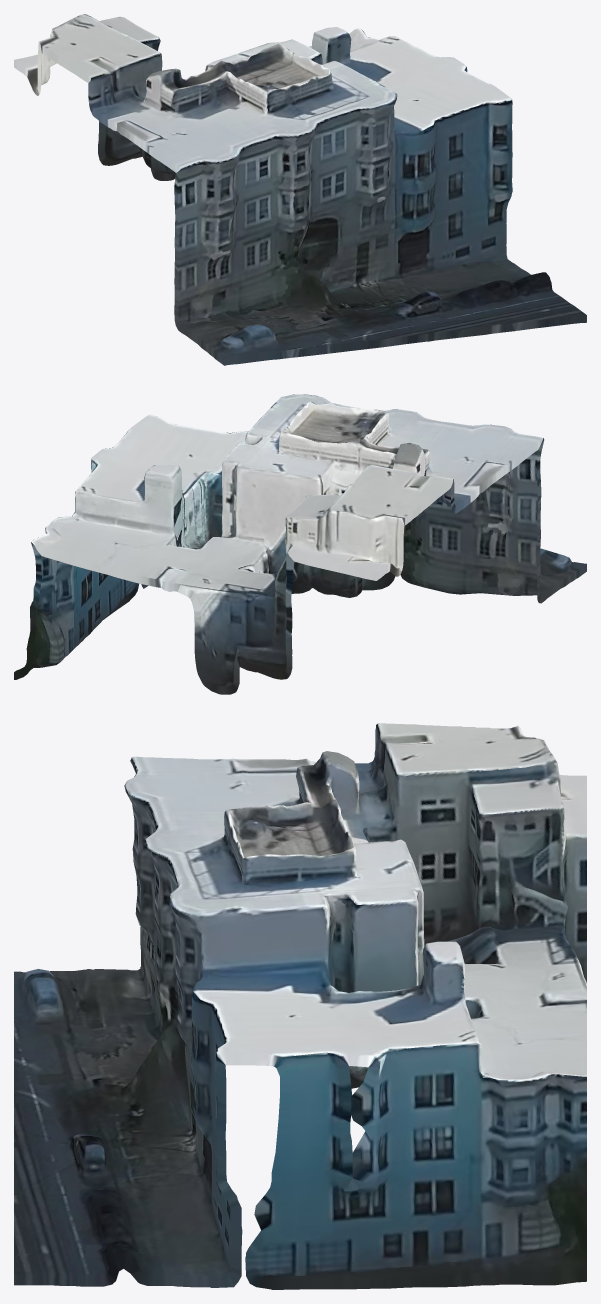
Rendered from z20-167734-405199-h0-yup-uvflip-v3-world.glb.
3 views of the same model, one above another, from view 1: azimuth 30°, elevation 25°; view 2: azimuth 150°, elevation 25°; view 3: azimuth 270°, elevation 25° (orthographic). The views are drawn at different scales.
Size of the model in its own units: 30.16 by 19.52 by 30.32.
1 material, 1 textured.
